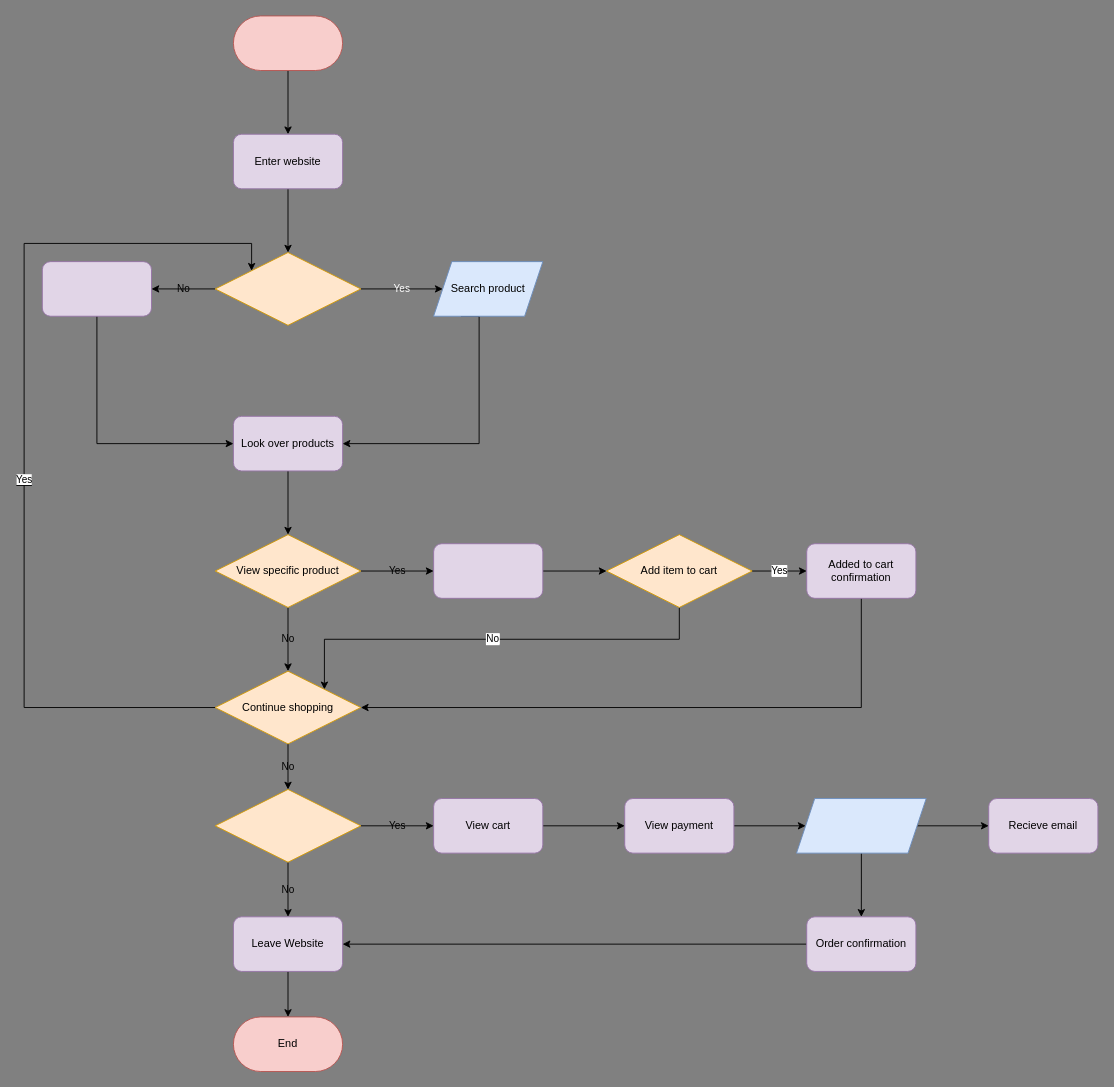
The diagram is 1114 pixels wide and 1087 high, and some of its shapes have lost their labels. Each missing label, with the centre of its shape:
"Checkout" belongs at (287,825).
"Home page products" belongs at (96,288).
"Payment information" belongs at (861,825).
"Product webpage" belongs at (488,570).
"Search for product" belongs at (287,288).
"Start" belongs at (288,43).
